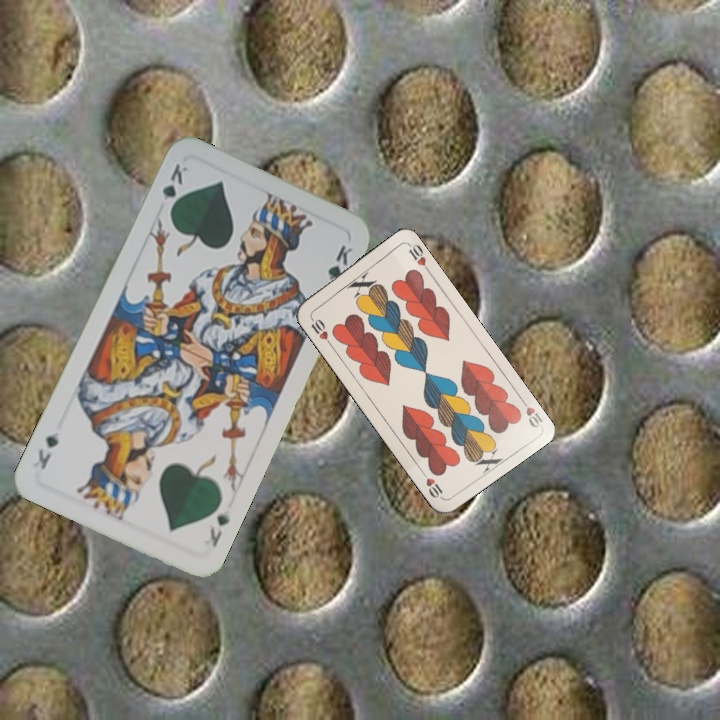GK: (158, 159, 191, 217), (204, 505, 233, 550)
H10: (516, 393, 546, 431), (306, 312, 334, 348)
